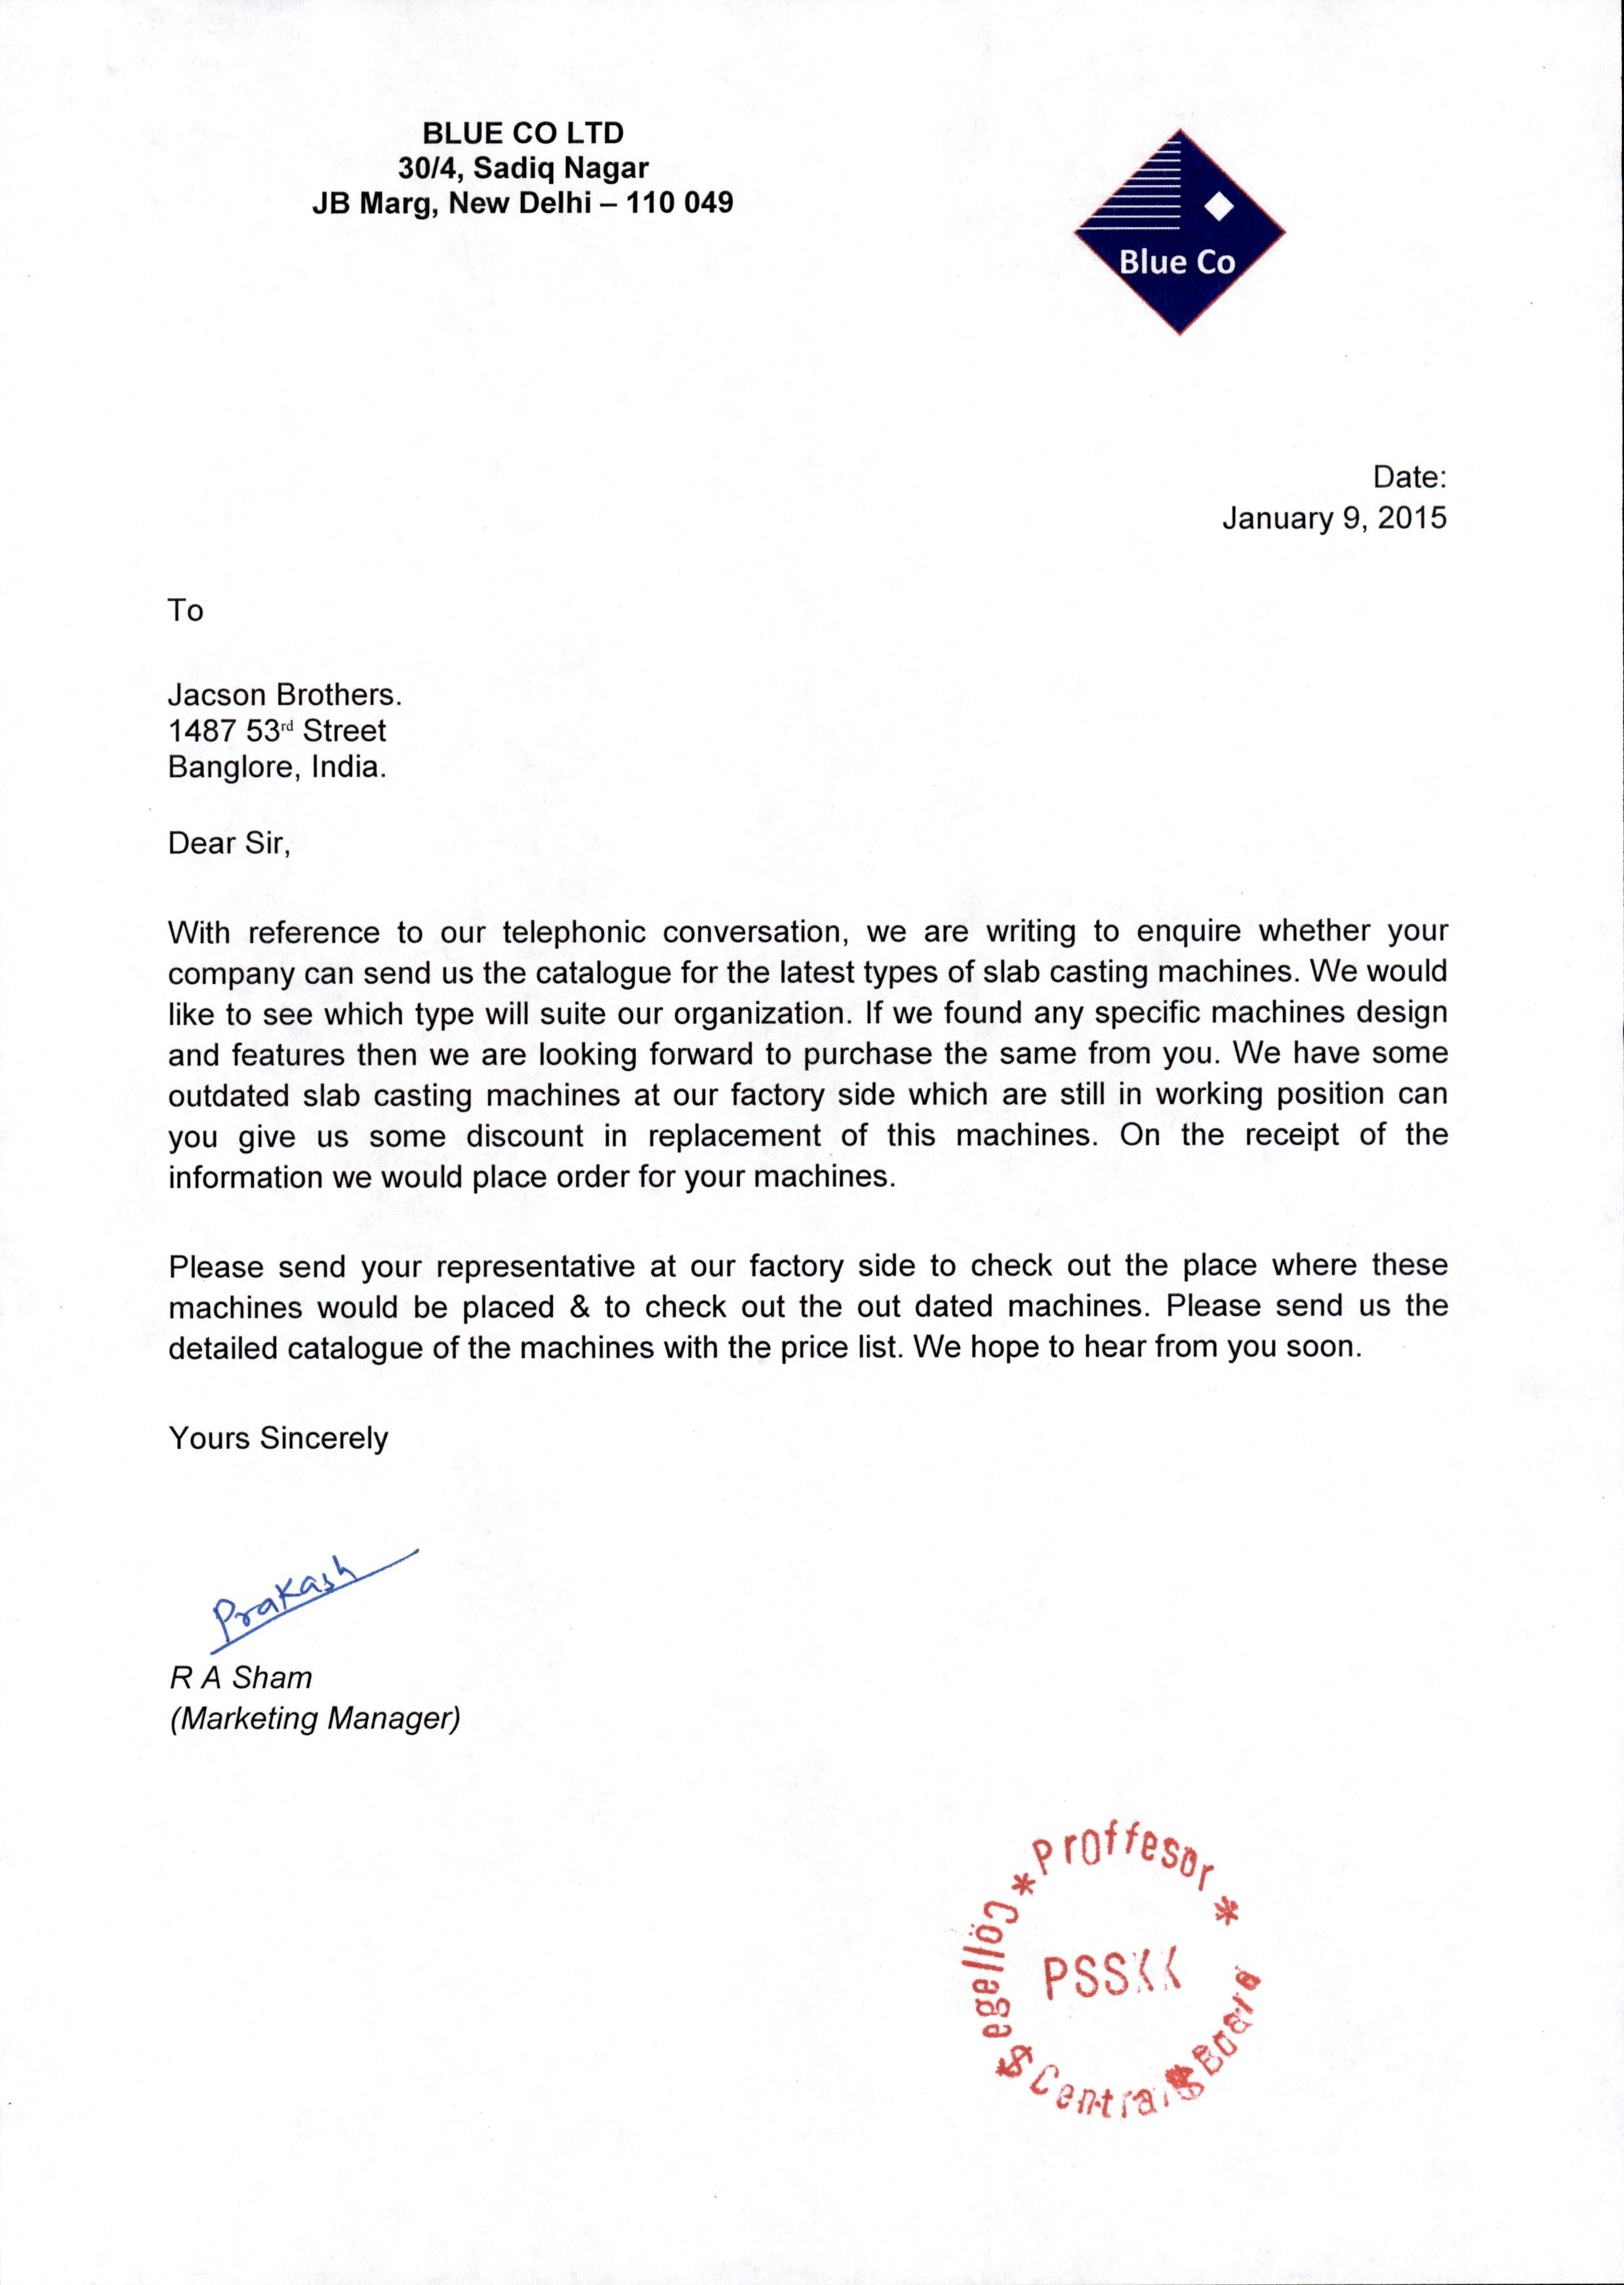Signature: (202, 1540, 425, 1668)
